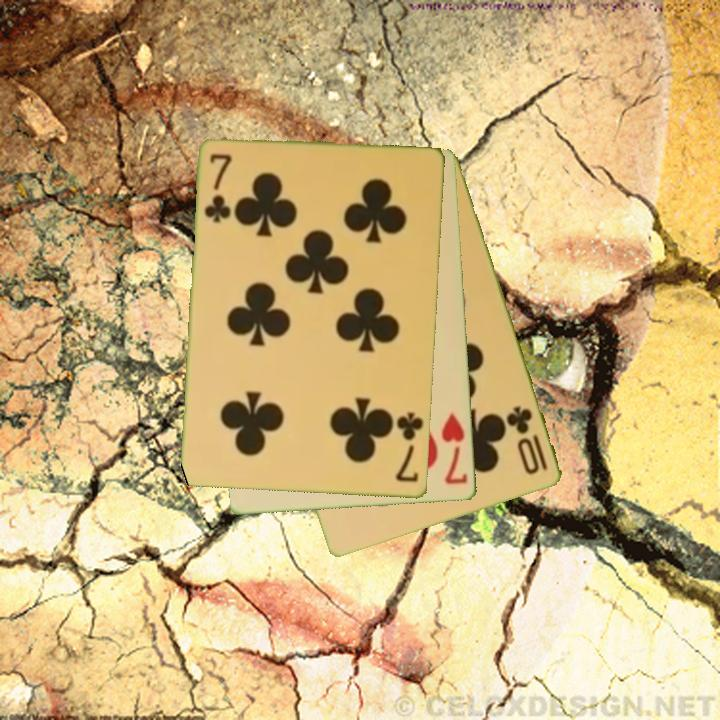10c: (504, 403, 551, 478)
7c: (392, 409, 427, 485), (202, 151, 236, 226)
7h: (438, 410, 471, 488)
